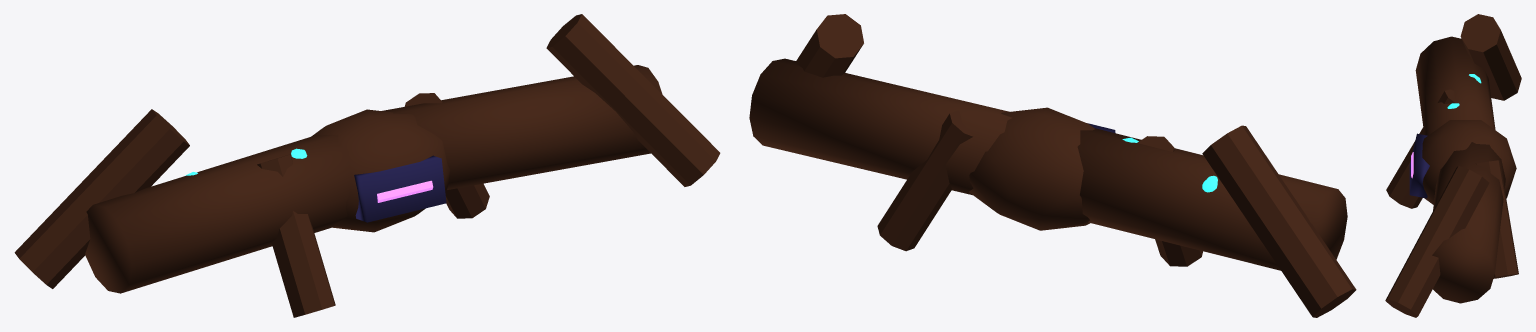
File: raiz_dormida.glb
The picture shows the model from 3 angles, left to right: view 1: azimuth 30°, elevation 25°; view 2: azimuth 150°, elevation 25°; view 3: azimuth 270°, elevation 25°; orthographic projection. The views are drawn at different scales.
Visible parts, largest first — view 1: Cylinder, Cylinder.001, Cylinder.003, Cylinder.002, Icosphere, Cylinder.004, Cube, Cylinder.005, Cylinder.006; view 2: Cylinder.001, Cylinder, Icosphere, Cylinder.002, Cylinder.005, Cylinder.003, Cylinder.004; view 3: Cylinder.001, Cylinder.003, Cylinder, Icosphere, Cylinder.002, Cylinder.005, Cylinder.004, Cube.
Part boxes in pixels (x1,y1,x2,y2): Cylinder: [85, 134, 352, 293]; Cylinder.001: [382, 65, 662, 189]; Cylinder.003: [546, 14, 720, 186]; Cylinder.002: [14, 109, 189, 288]; Icosphere: [311, 109, 449, 232]; Cylinder.004: [257, 154, 335, 317]; Cube: [354, 155, 446, 222]; Cylinder.005: [404, 93, 489, 218]; Cylinder.006: [377, 180, 433, 202]; Cylinder.001: [749, 58, 1012, 195]; Cylinder: [1077, 128, 1347, 270]; Icosphere: [969, 107, 1094, 230]; Cylinder.002: [1202, 125, 1356, 317]; Cylinder.005: [877, 110, 973, 251]; Cylinder.003: [795, 14, 863, 77]; Cylinder.004: [1137, 136, 1202, 266]; Cylinder.001: [1432, 142, 1505, 303]; Cylinder.003: [1385, 166, 1489, 317]; Cylinder: [1415, 36, 1495, 135]; Icosphere: [1422, 120, 1516, 204]; Cylinder.002: [1460, 14, 1521, 100]; Cylinder.005: [1476, 160, 1518, 278]; Cylinder.004: [1386, 89, 1455, 208]; Cube: [1409, 133, 1429, 198].
Size of the model in its own units: 4.44 by 1.33 by 1.07.
